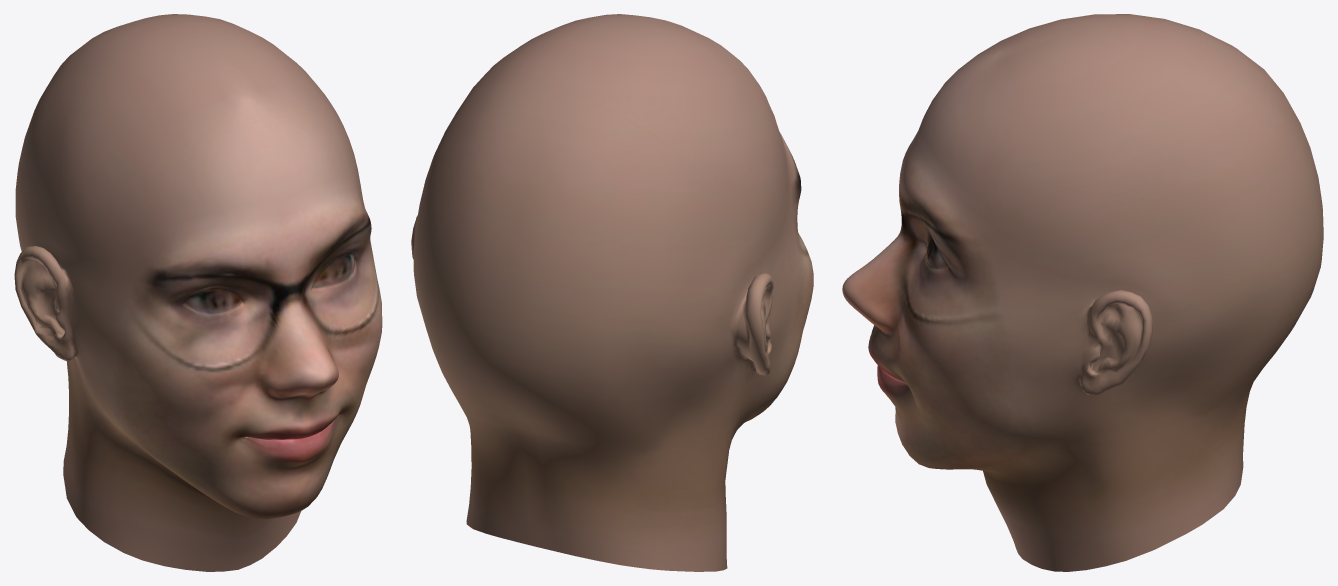
3 views of the same model, side by side, from view 1: azimuth 30°, elevation 25°; view 2: azimuth 150°, elevation 25°; view 3: azimuth 270°, elevation 25° (orthographic). The views are drawn at different scales.
Visible parts, largest first — view 1: HeadHires; view 2: HeadHires; view 3: HeadHires.
Part boxes in pixels (x1=…): HeadHires: x1=14, y1=14, x2=382, y2=571; HeadHires: x1=411, y1=14, x2=813, y2=571; HeadHires: x1=842, y1=14, x2=1323, y2=571.
Size of the model in its own units: 191 by 283 by 238.
1 material, 1 textured.
